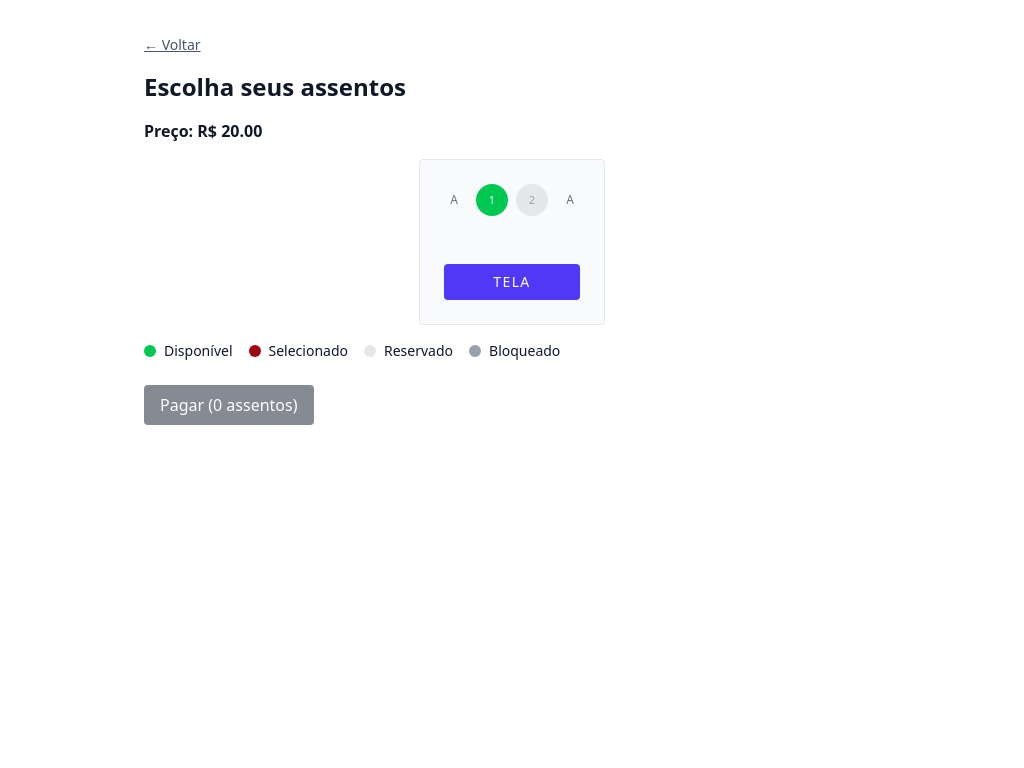
Test: SessionSeatsPage (integration) › should ask for confirmation before cancelling and stay on the page when dismissed
Expected: the button titled "A1 — Disponível" is shown, x1=476 y1=184 x2=508 y2=216
# WHEN the user clicks back and then dismisses the confirmation
Click the button "← Voltar". click: (172, 45)
box: x1=144 y1=35 x2=200 y2=55
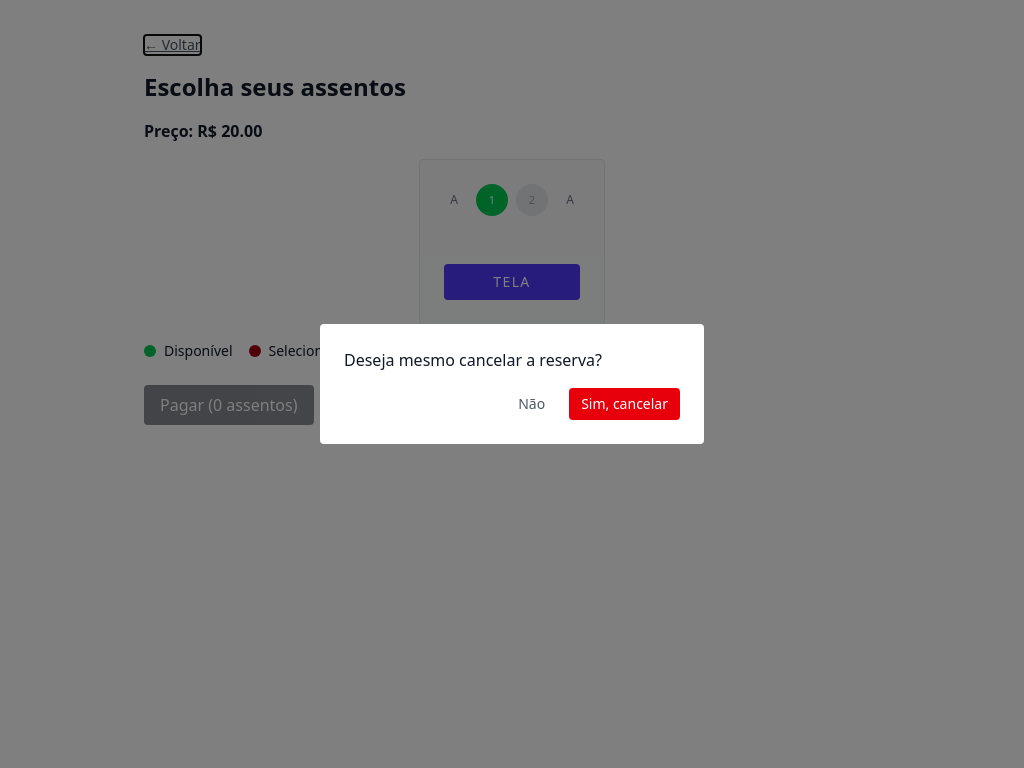
Expected: the text "Deseja mesmo cancelar a reserva?" is shown, x1=344 y1=349 x2=602 y2=371
Click the button "Não". click: (532, 404)
box: x1=506 y1=388 x2=557 y2=420
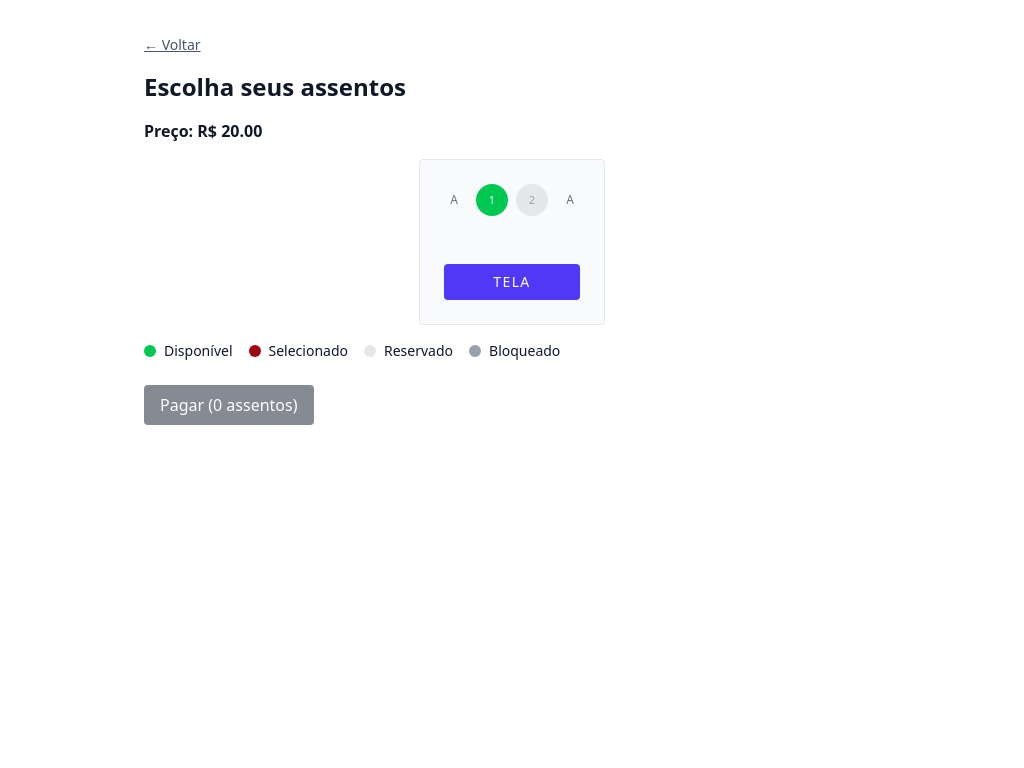
Expected: the heading "Escolha seus assentos" is shown, x1=144 y1=70 x2=406 y2=103
Expected: the text "Deseja mesmo cancelar a reserva?" is gone
